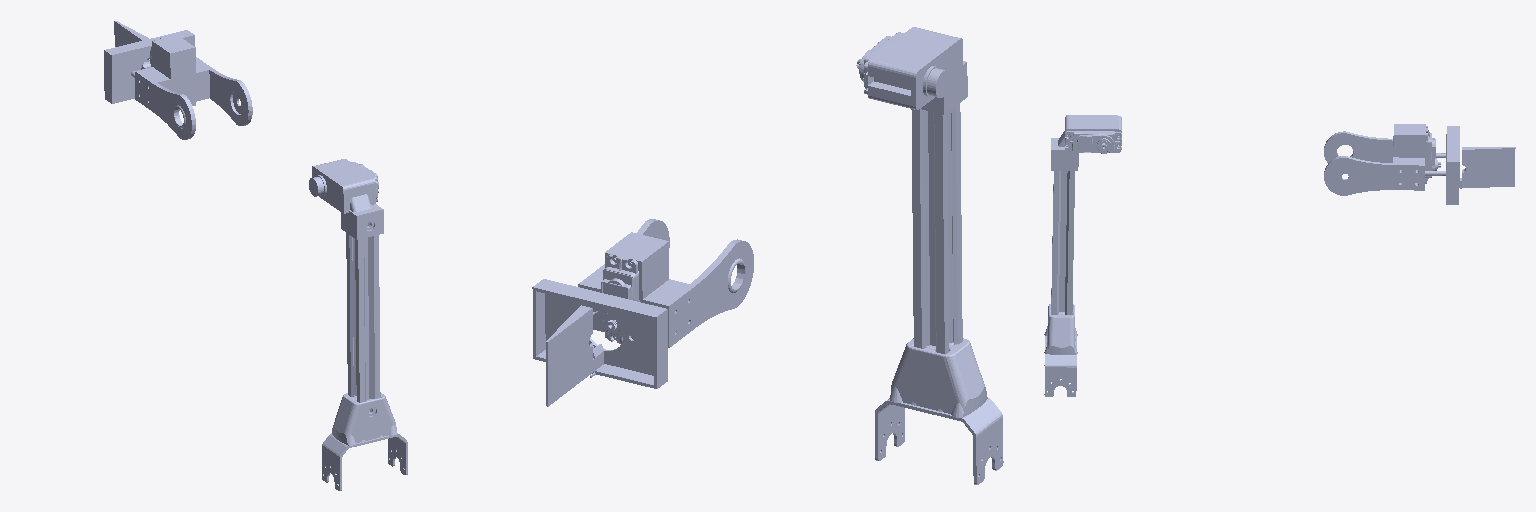
robot.urdf — robot_arm_description:
<?xml version="1.0" ?>
<!-- =================================================================================== -->
<!-- |    This document was autogenerated by xacro from [local-path]/copy/src/robot_arm_description/urdf/robot_arm.urdf.xacro | -->
<!-- |    EDITING THIS FILE BY HAND IS NOT RECOMMENDED                                 | -->
<!-- =================================================================================== -->
<robot name="robot_arm_description">
  <gazebo>
    <plugin filename="ign_ros2_control-system" name="ign_ros2_control::IgnitionROS2ControlPlugin">
      <parameters>[local-path]/ros2_ws/src/robot_arm_controller/config/robot_arm_controllers.yaml</parameters>
    </plugin>
  </gazebo>
  <!-- Use ros2_control plugin for Ignition Gazebo -->
  <ros2_control name="RobotSystem" type="system">
    <hardware>
      <plugin>ign_ros2_control/IgnitionSystem</plugin>
      <!-- <plugin>ros2_control_demo_hardware/GenericSystem</plugin>  -->
    </hardware>
    <!-- Define Joints with Position Interface Only -->
    <joint name="joint_1">
      <command_interface name="position">
        <param name="min">-1.57</param>
        <param name="max">1.57</param>
      </command_interface>
      <command_interface name="velocity">
        <param name="min">-3.15</param>
        <param name="max">3.15</param>
      </command_interface>
      <state_interface name="position"/>
      <state_interface name="velocity"/>
      <state_interface name="effort"/>
    </joint>
    <joint name="joint_2">
      <command_interface name="position">
        <param name="min">-1.57</param>
        <param name="max">1.57</param>
      </command_interface>
      <command_interface name="velocity">
        <param name="min">-3.15</param>
        <param name="max">3.15</param>
      </command_interface>
      <state_interface name="position"/>
      <state_interface name="velocity"/>
      <state_interface name="effort"/>
    </joint>
    <joint name="joint_3">
      <command_interface name="position">
        <param name="min">-1.57</param>
        <param name="max">1.57</param>
      </command_interface>
      <command_interface name="velocity">
        <param name="min">-3.15</param>
        <param name="max">3.15</param>
      </command_interface>
      <state_interface name="position"/>
      <state_interface name="velocity"/>
      <state_interface name="effort"/>
    </joint>
    <joint name="joint_4">
      <command_interface name="position">
        <param name="min">-1.57</param>
        <param name="max">1.57</param>
      </command_interface>
      <command_interface name="velocity">
        <param name="min">-3.15</param>
        <param name="max">3.15</param>
      </command_interface>
      <state_interface name="position"/>
      <state_interface name="velocity"/>
      <state_interface name="effort"/>
    </joint>
    <joint name="joint_5">
      <command_interface name="position">
        <param name="min">-0.03</param>
        <param name="max">0.0</param>
      </command_interface>
      <command_interface name="velocity">
        <param name="min">-3.15</param>
        <param name="max">3.15</param>
      </command_interface>
      <state_interface name="position"/>
      <state_interface name="velocity"/>
      <state_interface name="effort"/>
    </joint>
    <!-- Joint 6 Mimics Joint 5 -->
    <joint name="joint_6">
      <command_interface name="position">
        <param name="min">0</param>
        <param name="max">0.03</param>
      </command_interface>
      <command_interface name="velocity">
        <param name="min">-3.15</param>
        <param name="max">3.15</param>
      </command_interface>
      <state_interface name="position"/>
      <state_interface name="velocity"/>
      <state_interface name="effort"/>
      <mimic joint="joint_5" multiplier="-1" offset="0"/>
    </joint>
  </ros2_control>
  <!-- Links -->
  <link name="world"/>
  <!-- Joints -->
  <joint name="virtual_joint" type="fixed">
    <parent link="world"/>
    <child link="base_link"/>
    <origin rpy="0 0 0" xyz="0 0 0"/>
  </joint>
  <!-- Base Link without Inertia -->
  <link name="base_link">
    <inertial>
      <origin rpy="0 0 0" xyz="0 0 0"/>
      <mass value="1.0"/>
      <inertia ixx="0.01" ixy="0.0" ixz="0.0" iyy="0.01" iyz="0.0" izz="0.01"/>
    </inertial>
    <visual>
      <origin rpy="0 0 0" xyz="0 0 0"/>
      <geometry>
        <mesh filename="package://robot_arm_description/meshes/base_link.STL"/>
      </geometry>
      <material name="">
        <color rgba="0.79216 0.81961 0.93333 1"/>
      </material>
    </visual>
    <collision>
      <origin rpy="0 0 0" xyz="0 0 0"/>
      <geometry>
        <mesh filename="package://robot_arm_description/meshes/base_link.STL"/>
      </geometry>
    </collision>
  </link>
  <!-- Joint 1 -->
  <joint name="joint_1" type="revolute">
    <origin rpy="1.5708 0 1.5708" xyz="0 0 0.063"/>
    <parent link="base_link"/>
    <child link="link_1"/>
    <axis xyz="0 1 0"/>
    <limit effort="1.35" lower="-1.57" upper="1.57" velocity="5.5"/>
  </joint>
  <!-- Link 1 -->
  <link name="link_1">
    <inertial>
      <origin rpy="0 0 0" xyz="2.6152E-08 0.035089 0.00070571"/>
      <mass value="0.088226"/>
      <inertia ixx="3.5564E-05" ixy="-7.7325E-09" ixz="3.0407E-12" iyy="2.4365E-05" iyz="-3.8251E-08" izz="3.8253E-05"/>
    </inertial>
    <visual>
      <origin rpy="0 0 0" xyz="0 0 0"/>
      <geometry>
        <mesh filename="package://robot_arm_description/meshes/link_1.STL"/>
      </geometry>
      <material name="">
        <color rgba="0.79216 0.81961 0.93333 1"/>
      </material>
    </visual>
    <collision>
      <origin rpy="0 0 0" xyz="0 0 0"/>
      <geometry>
        <mesh filename="package://robot_arm_description/meshes/link_1.STL"/>
      </geometry>
    </collision>
  </link>
  <!-- Joint 2 -->
  <joint name="joint_2" type="revolute">
    <origin rpy="1.5533 1.5708 0" xyz="0 0.064 0"/>
    <parent link="link_1"/>
    <child link="link_2"/>
    <axis xyz="1 0 0"/>
    <limit effort="1.35" lower="-1.57" upper="1.57" velocity="5.5"/>
  </joint>
  <!-- Link 2 -->
  <link name="link_2">
    <inertial>
      <origin rpy="0 0 0" xyz="-7.7387E-05 0.015464 -0.15988"/>
      <mass value="0.12853"/>
      <inertia ixx="0.00013873" ixy="-6.7888E-07" ixz="5.6388E-07" iyy="0.00013845" iyz="6.6229E-06" izz="3.5101E-05"/>
    </inertial>
    <visual>
      <origin rpy="0 0 0" xyz="0 0 0"/>
      <geometry>
        <mesh filename="package://robot_arm_description/meshes/link_2.STL"/>
      </geometry>
      <material name="">
        <color rgba="0.79216 0.81961 0.93333 1"/>
      </material>
    </visual>
    <collision>
      <origin rpy="0 0 0" xyz="0 0 0"/>
      <geometry>
        <mesh filename="package://robot_arm_description/meshes/link_2.STL"/>
      </geometry>
    </collision>
  </link>
  <!-- Joint 3 -->
  <joint name="joint_3" type="revolute">
    <origin rpy="0.35539 0.63117 0.21561" xyz="0 0.045308 -0.25017"/>
    <parent link="link_2"/>
    <child link="link_3"/>
    <axis xyz="-0.78864 0 -0.61485"/>
    <limit effort="1.35" lower="-1.57" upper="1.57" velocity="5.5"/>
  </joint>
  <!-- Link 3 -->
  <link name="link_3">
    <inertial>
      <origin rpy="0 0 0" xyz="0.012111 0.12658 -0.021361"/>
      <mass value="0.14257"/>
      <inertia ixx="0.00014411" ixy="-1.8273E-05" ixz="6.0496E-07" iyy="3.4503E-05" iyz="2.3073E-05" izz="0.00014132"/>
    </inertial>
    <visual>
      <origin rpy="0 0 0" xyz="0 0 0"/>
      <geometry>
        <mesh filename="package://robot_arm_description/meshes/link_3.STL"/>
      </geometry>
      <material name="">
        <color rgba="0.79216 0.81961 0.93333 1"/>
      </material>
    </visual>
    <collision>
      <origin rpy="0 0 0" xyz="0 0 0"/>
      <geometry>
        <mesh filename="package://robot_arm_description/meshes/link_3.STL"/>
      </geometry>
    </collision>
  </link>
  <!-- Joint 4 -->
  <joint name="joint_4" type="revolute">
    <origin rpy="0.35965 -0.050844 0.27795" xyz="0.020718 0.22568 -0.026574"/>
    <parent link="link_3"/>
    <child link="link_4"/>
    <axis xyz="-0.78864 0 -0.61485"/>
    <limit effort="1.35" lower="-1.57" upper="1.57" velocity="5.5"/>
  </joint>
  <!-- Link 4 -->
  <link name="link_4">
    <inertial>
      <origin rpy="0 0 0" xyz="0.021507 0.041633 -0.036882"/>
      <mass value="0.096051"/>
      <inertia ixx="3.672E-05" ixy="-1.4508E-06" ixz="3.6397E-07" iyy="3.5201E-05" iyz="1.899E-06" izz="3.662E-05"/>
    </inertial>
    <visual>
      <origin rpy="0 0 0" xyz="0 0 0"/>
      <geometry>
        <mesh filename="package://robot_arm_description/meshes/link_4.STL"/>
      </geometry>
      <material name="">
        <color rgba="0.79216 0.81961 0.93333 1"/>
      </material>
    </visual>
    <collision>
      <origin rpy="0 0 0" xyz="0 0 0"/>
      <geometry>
        <mesh filename="package://robot_arm_description/meshes/link_4.STL"/>
      </geometry>
    </collision>
  </link>
  <!-- ========================= Dummy Link Definition ========================= -->
  <link name="dummy_link">
    <inertial>
      <!-- Inertia properties of dummy_link -->
      <origin rpy="0 0 0" xyz="0 0.0025 0.000500000000000001"/>
      <mass value="5.0000000000001E-06"/>
      <inertia ixx="1.08333333333334E-11" ixy="-1.39155063680986E-27" ixz="1.10935197335756E-28" iyy="8.33333333333374E-13" iyz="6.29916623584742E-27" izz="1.08333333333335E-11"/>
    </inertial>
    <visual>
      <!-- Visual representation using a mesh file -->
      <origin rpy="0 0 0" xyz="0 0 0"/>
      <geometry>
        <mesh filename="package://robot_arm_description/meshes/dummy_link.STL"/>
      </geometry>
      <material name="">
        <color rgba="0.792156862745098 0.819607843137255 0.933333333333333 1"/>
      </material>
    </visual>
    <collision>
      <!-- Collision properties using the same mesh file -->
      <origin rpy="0 0 0" xyz="0 0 0"/>
      <geometry>
        <mesh filename="package://robot_arm_description/meshes/dummy_link.STL"/>
      </geometry>
    </collision>
  </link>
  <!-- ===================== End of Dummy Link Definition ===================== -->
  <!-- ========================= Dummy Joint Definition ========================= -->
  <joint name="dummy_joint" type="fixed">
    <!-- Position and orientation of the joint connecting dummy_link to link_4 -->
    <origin rpy="-2.4442 -0.63995 2.19" xyz="0.028884 0.095638 -0.045587"/>
    <parent link="link_4"/>
    <child link="dummy_link"/>
    <!-- Prismatic joint with movement along the Z-axis -->
    <axis xyz="0 0 1"/>
    <!-- Joint limits (currently locked with lower=upper=0) -->
    <!-- <limit effort="0" lower="0" upper="0" velocity="0"/> -->
  </joint>
  <!-- ===================== End of Dummy Joint Definition ===================== -->
  <!-- Joint 5 -->
  <joint name="joint_5" type="prismatic">
    <origin rpy="-2.0002 0.60545 1.964" xyz="-0.21116 0.021122 0.31578"/>
    <parent link="link_4"/>
    <child link="link_5"/>
    <axis xyz="0.59842 0 0.80119"/>
    <limit effort="10.0" lower="-0.03" upper="0" velocity="5.5"/>
  </joint>
  <!-- Link 5 -->
  <link name="link_5">
    <inertial>
      <origin rpy="0 0 0" xyz="0.19371 0.41234 -0.10632"/>
      <mass value="0.0095399"/>
      <inertia ixx="2.2249E-06" ixy="-3.9768E-07" ixz="7.8333E-07" iyy="1.7553E-06" iyz="2.2835E-07" izz="2.8965E-06"/>
    </inertial>
    <visual>
      <origin rpy="0 0 0" xyz="0 0 0"/>
      <geometry>
        <mesh filename="package://robot_arm_description/meshes/link_5.STL"/>
      </geometry>
      <material name="">
        <color rgba="0.79216 0.81961 0.93333 1"/>
      </material>
    </visual>
    <collision>
      <origin rpy="0 0 0" xyz="0 0 0"/>
      <geometry>
        <mesh filename="package://robot_arm_description/meshes/link_5.STL"/>
      </geometry>
    </collision>
  </link>
  <!-- Joint 6 -->
  <joint name="joint_6" type="prismatic">
    <origin rpy="-2.281 -0.16752 0.87925" xyz="-0.21426 0.021122 0.31336"/>
    <parent link="link_4"/>
    <child link="link_6"/>
    <axis xyz="-0.59842 0 0.80119"/>
    <limit effort="10.0" lower="0" upper="0.03" velocity="5.5"/>
    <mimic joint="joint_5" multiplier="-1" offset="0"/>
  </joint>
  <!-- Link 6 -->
  <link name="link_6">
    <inertial>
      <origin rpy="0 0 0" xyz="0.15611 0.41234 0.15665"/>
      <mass value="0.0095399"/>
      <inertia ixx="2.2249E-06" ixy="-3.9768E-07" ixz="-7.8333E-07" iyy="1.7553E-06" iyz="-2.2835E-07" izz="2.8965E-06"/>
    </inertial>
    <visual>
      <origin rpy="0 0 0" xyz="0 0 0"/>
      <geometry>
        <mesh filename="package://robot_arm_description/meshes/link_6.STL"/>
      </geometry>
      <material name="">
        <color rgba="0.79216 0.81961 0.93333 1"/>
      </material>
    </visual>
    <collision>
      <origin rpy="0 0 0" xyz="0 0 0"/>
      <geometry>
        <mesh filename="package://robot_arm_description/meshes/link_6.STL"/>
      </geometry>
    </collision>
  </link>
</robot>

--- What the picture shows (computed from the rendered views, not written in the file) ---
The picture shows the robot from 3 angles, left to right: view 1: azimuth 30°, elevation 25°; view 2: azimuth 150°, elevation 25°; view 3: azimuth 270°, elevation 25°; orthographic projection.
Model robot_arm_description with 9 links and 8 joints (4 revolute, 2 prismatic, 2 fixed), rooted at world, posed every joint at zero.
Links seen in each view (by area): view 1: link_2, link_4, link_6; view 2: link_2, link_4, link_6; view 3: link_2, link_4, link_6.
Boxes of the visible links, x1,y1,x2,y2 form: link_2: [309, 159, 407, 490]; link_4: [104, 30, 252, 139]; link_6: [114, 21, 150, 69]; link_2: [856, 27, 1003, 484]; link_4: [532, 219, 753, 388]; link_6: [546, 305, 603, 406]; link_2: [1044, 115, 1121, 396]; link_4: [1324, 124, 1459, 204]; link_6: [1459, 147, 1515, 188].
Bounding box of the posed robot: 0.08 × 0.4426 × 0.2693 m (x, y, z).
Meshes: 8 distinct files referenced, 4 mesh visuals loaded (4 binary STL); not drawn: 4 (file found but could not be loaded).